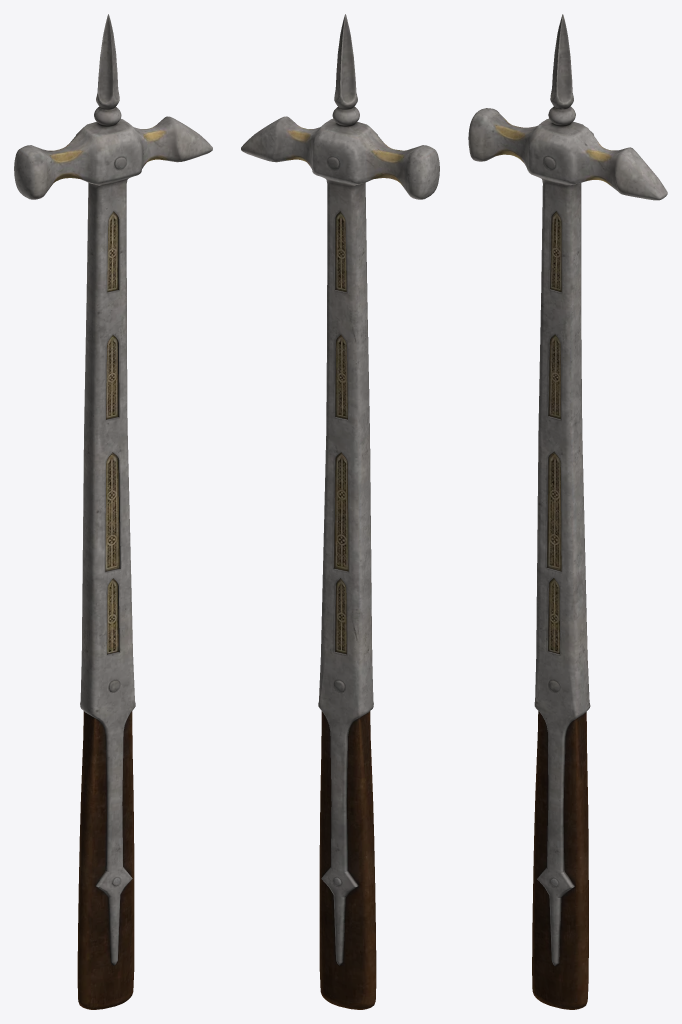
File: ornate_war_hammer.glb
The picture shows the model from 3 angles, left to right: view 1: azimuth 30°, elevation 25°; view 2: azimuth 150°, elevation 25°; view 3: azimuth 330°, elevation 25°; orthographic projection.
Visible parts, largest first — view 1: ornate_war_hammer; view 2: ornate_war_hammer; view 3: ornate_war_hammer.
Boxes of the visible parts, x1,y1,x2,y2 form: ornate_war_hammer: (14, 14, 212, 1009); ornate_war_hammer: (241, 14, 439, 1009); ornate_war_hammer: (468, 14, 667, 1009).
Bounding box in the file's own units: 0.1441 × 0.7112 × 0.0348.
Materials: 1 (1 with a texture image).
